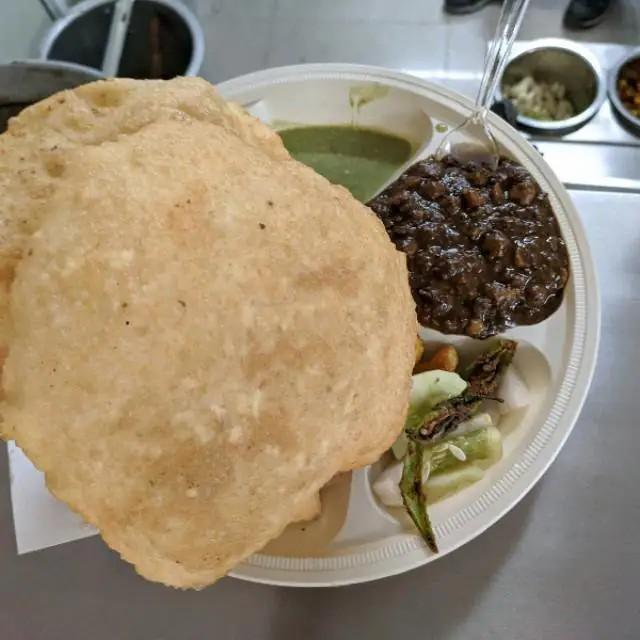Bhatura: (2, 74, 402, 590)
